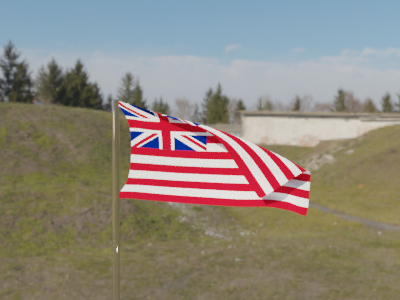Malaysia flag: (118, 102, 321, 219)
